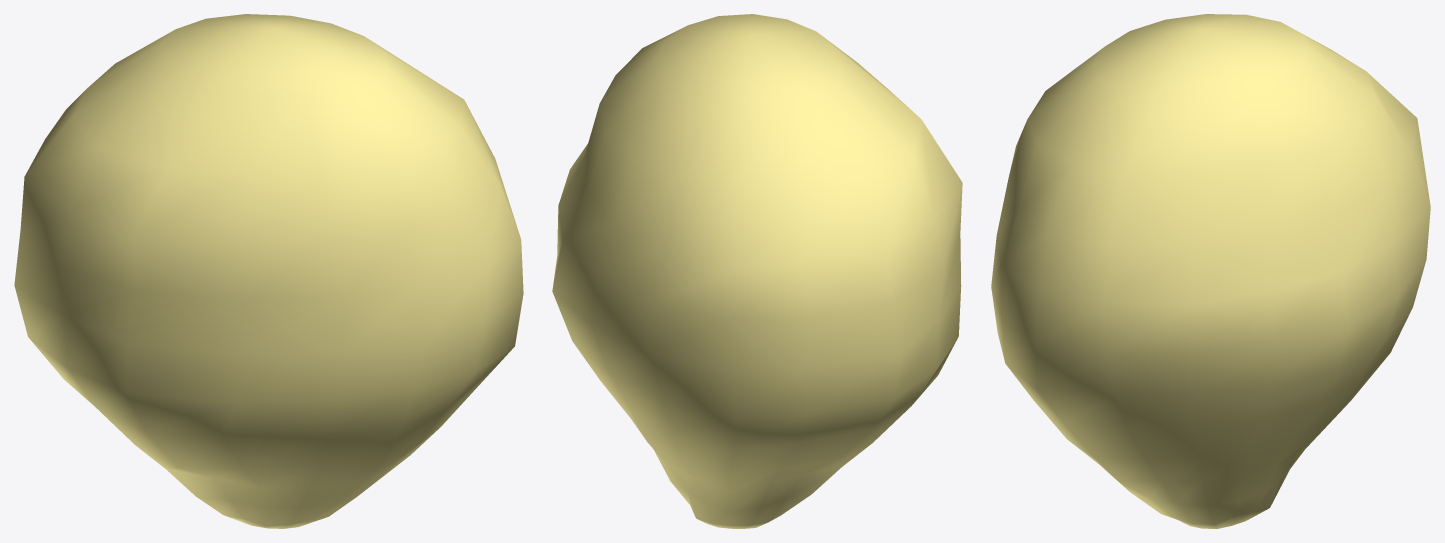
Rendered from MeshLettuceC8_0.obj.
3 renders of one model, left to right at view 1: azimuth 30°, elevation 25°; view 2: azimuth 150°, elevation 25°; view 3: azimuth 270°, elevation 25°, orthographic. The views are drawn at different scales.
Visible parts, largest first — view 1: LettuceC8; view 2: LettuceC8; view 3: LettuceC8.
Boxes of the visible parts, left/top/right/bottom form: LettuceC8: left=14, top=14, right=523, bottom=528; LettuceC8: left=552, top=14, right=962, bottom=528; LettuceC8: left=991, top=14, right=1430, bottom=528.
Bounding box in the file's own units: 0.1704 × 0.2013 × 0.167.
